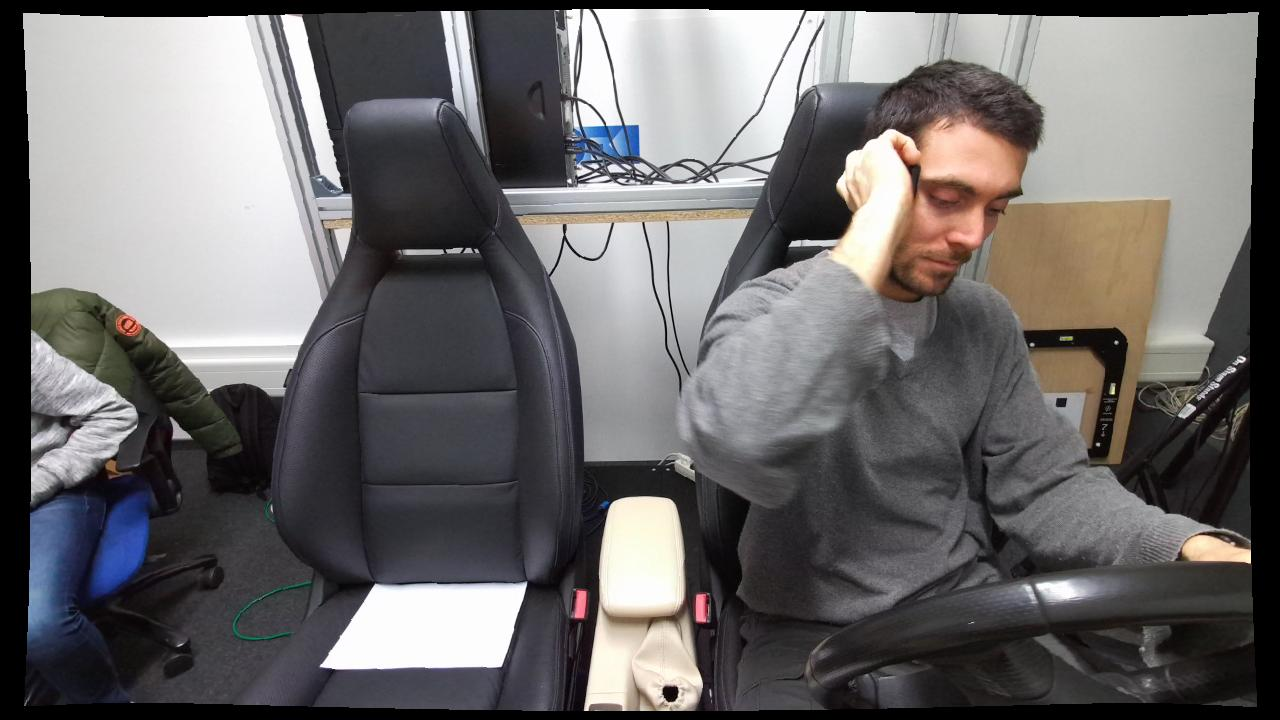Distracted: (681, 56, 1100, 710)
PhoneUse: (826, 116, 931, 253)
